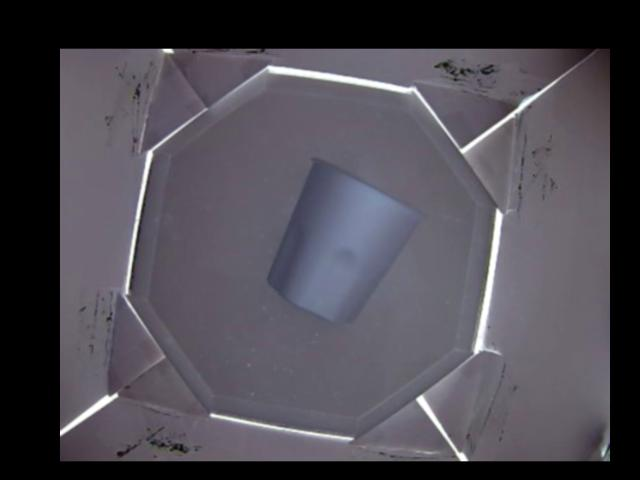Cup: (266, 156, 420, 322)
